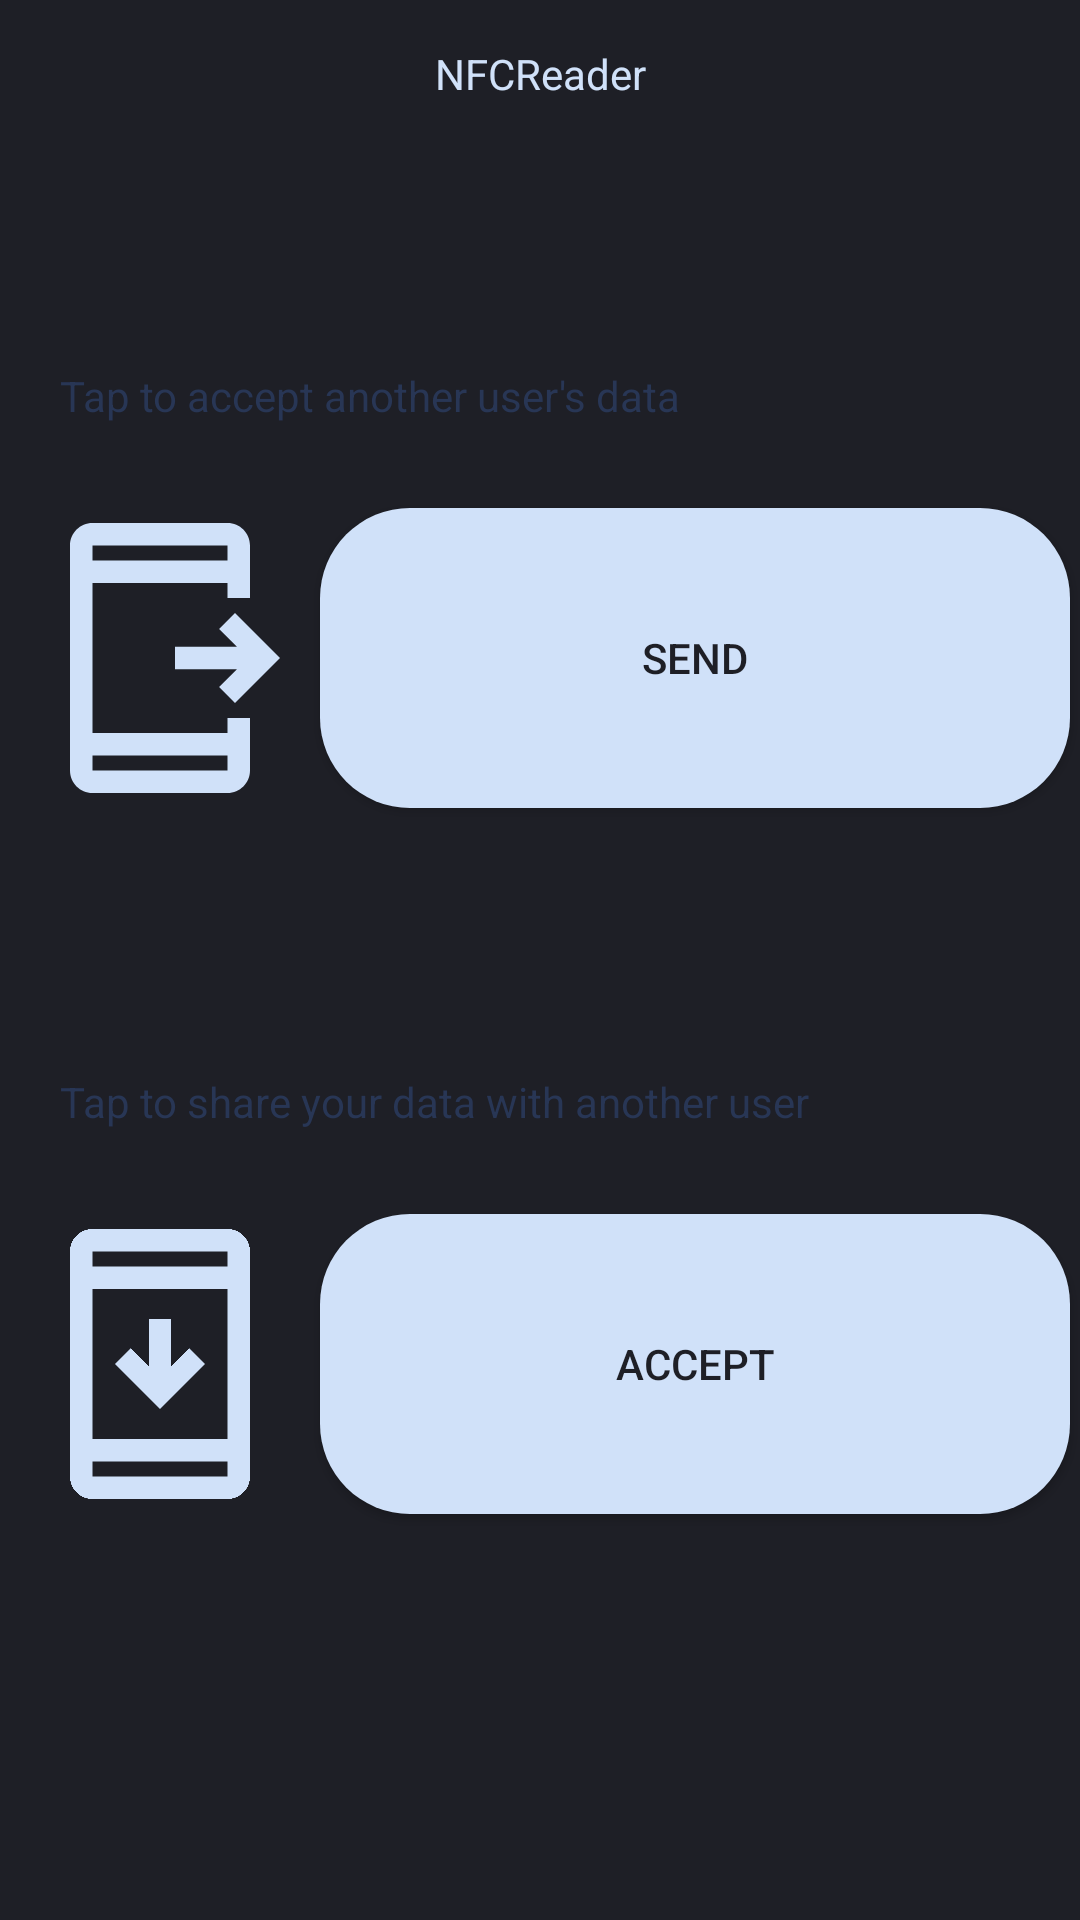

Named icons in this screenshot (1080px×1920px) and their bounding boxes, (x1, y1, x2, y2):
security update: (70, 1229, 250, 1499)
